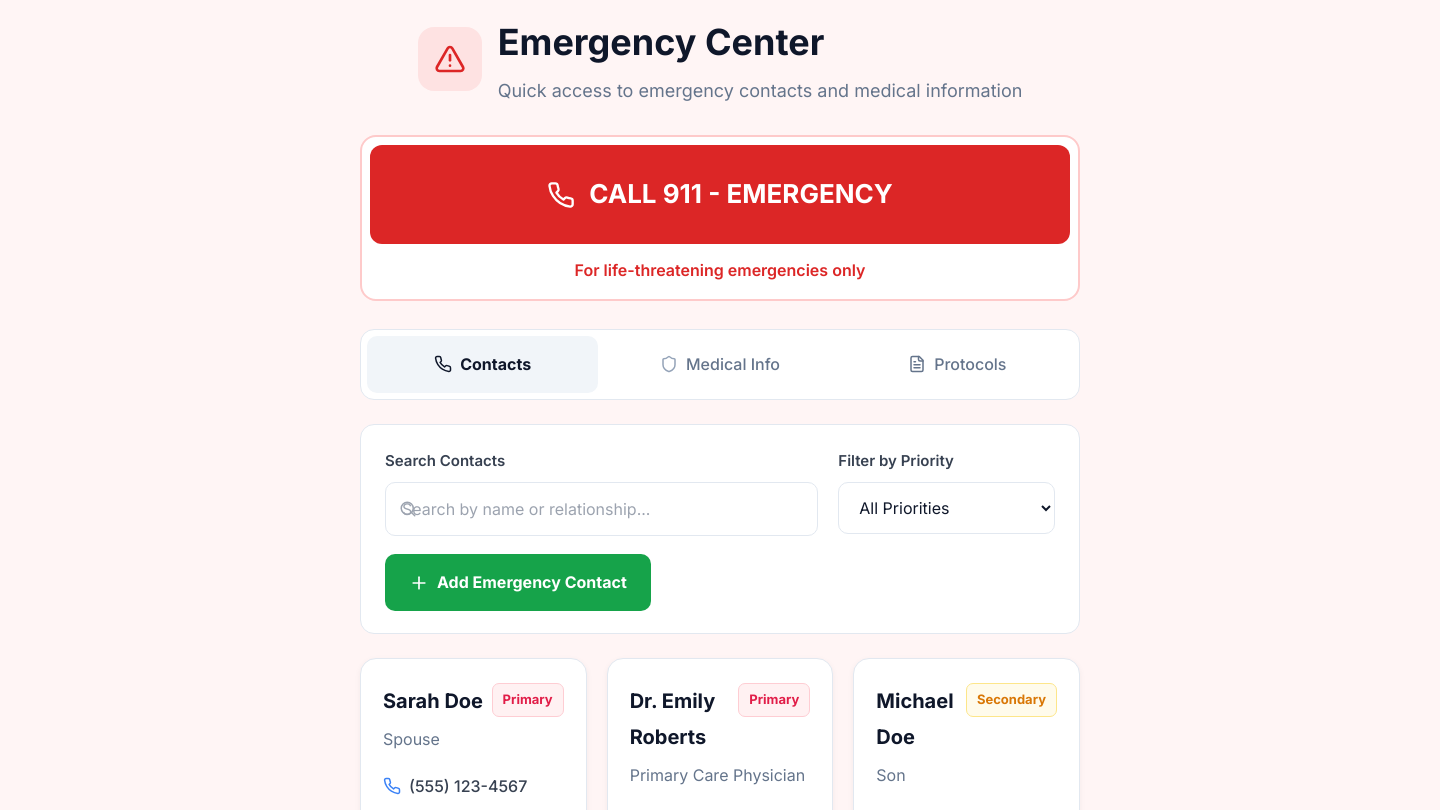
Scenario: EmergencyPage › opens add contact modal
The width and height of the screenshot is (1440, 810).
Click the button "Add Emergency Contact".
click(518, 583)  # box left=385, top=554, right=651, bottom=611
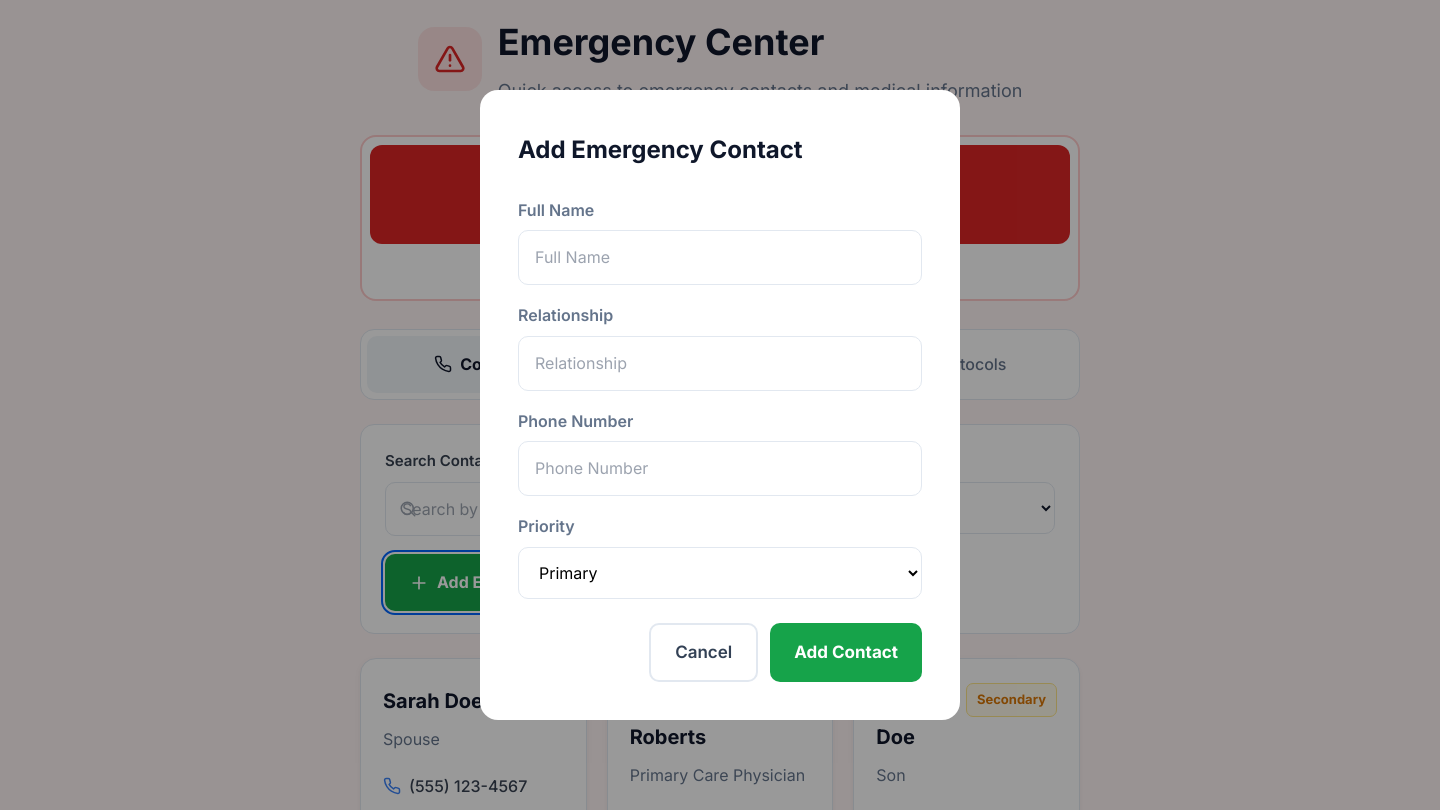
Check: the heading "Add Emergency Contact" is shown, box left=518, top=135, right=803, bottom=164
Check: the field with placeholder "Full Name" is shown, box left=518, top=230, right=922, bottom=285
Check: the field with placeholder "Relationship" is shown, box left=518, top=336, right=922, bottom=391
